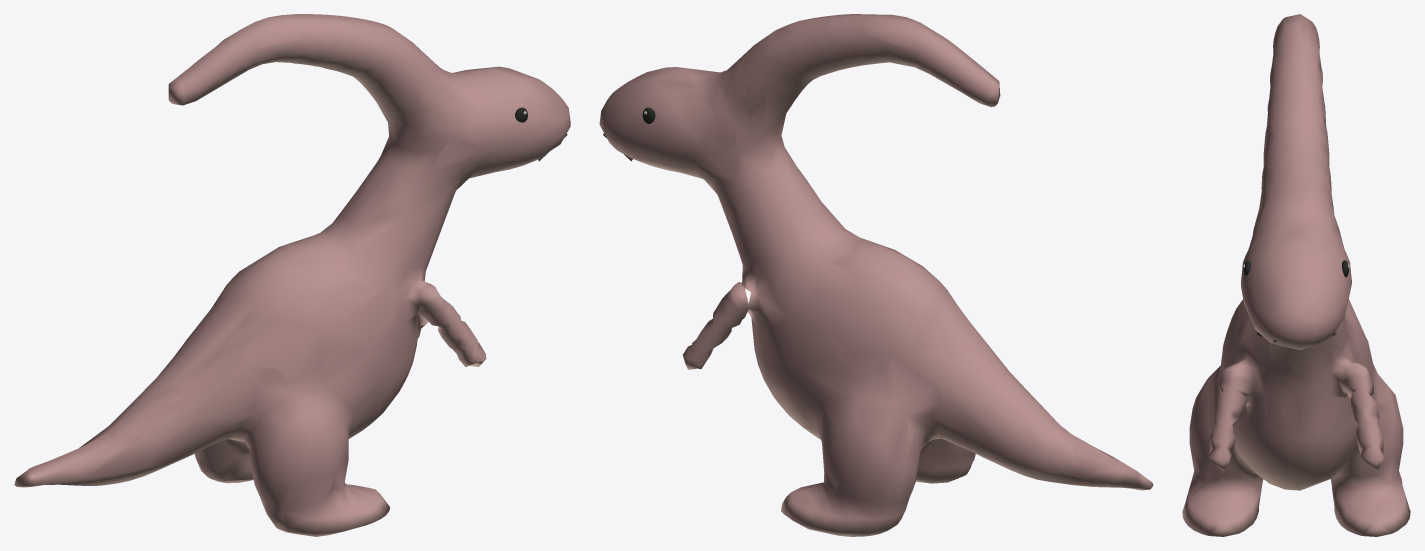
Rendered from parasaurolophus.glb.
3 renders of one model, left to right at view 1: azimuth 30°, elevation 25°; view 2: azimuth 150°, elevation 25°; view 3: azimuth 270°, elevation 25°, orthographic.
Parts seen in each view (by area): view 1: clay-toy; view 2: clay-toy; view 3: clay-toy.
Part boxes in pixels (left/top/right/bottom): clay-toy: left=14, top=14, right=570, bottom=536; clay-toy: left=599, top=14, right=1153, bottom=536; clay-toy: left=1182, top=14, right=1410, bottom=536.
Bounding box in the file's own units: 3.32 × 2.82 × 1.19.
